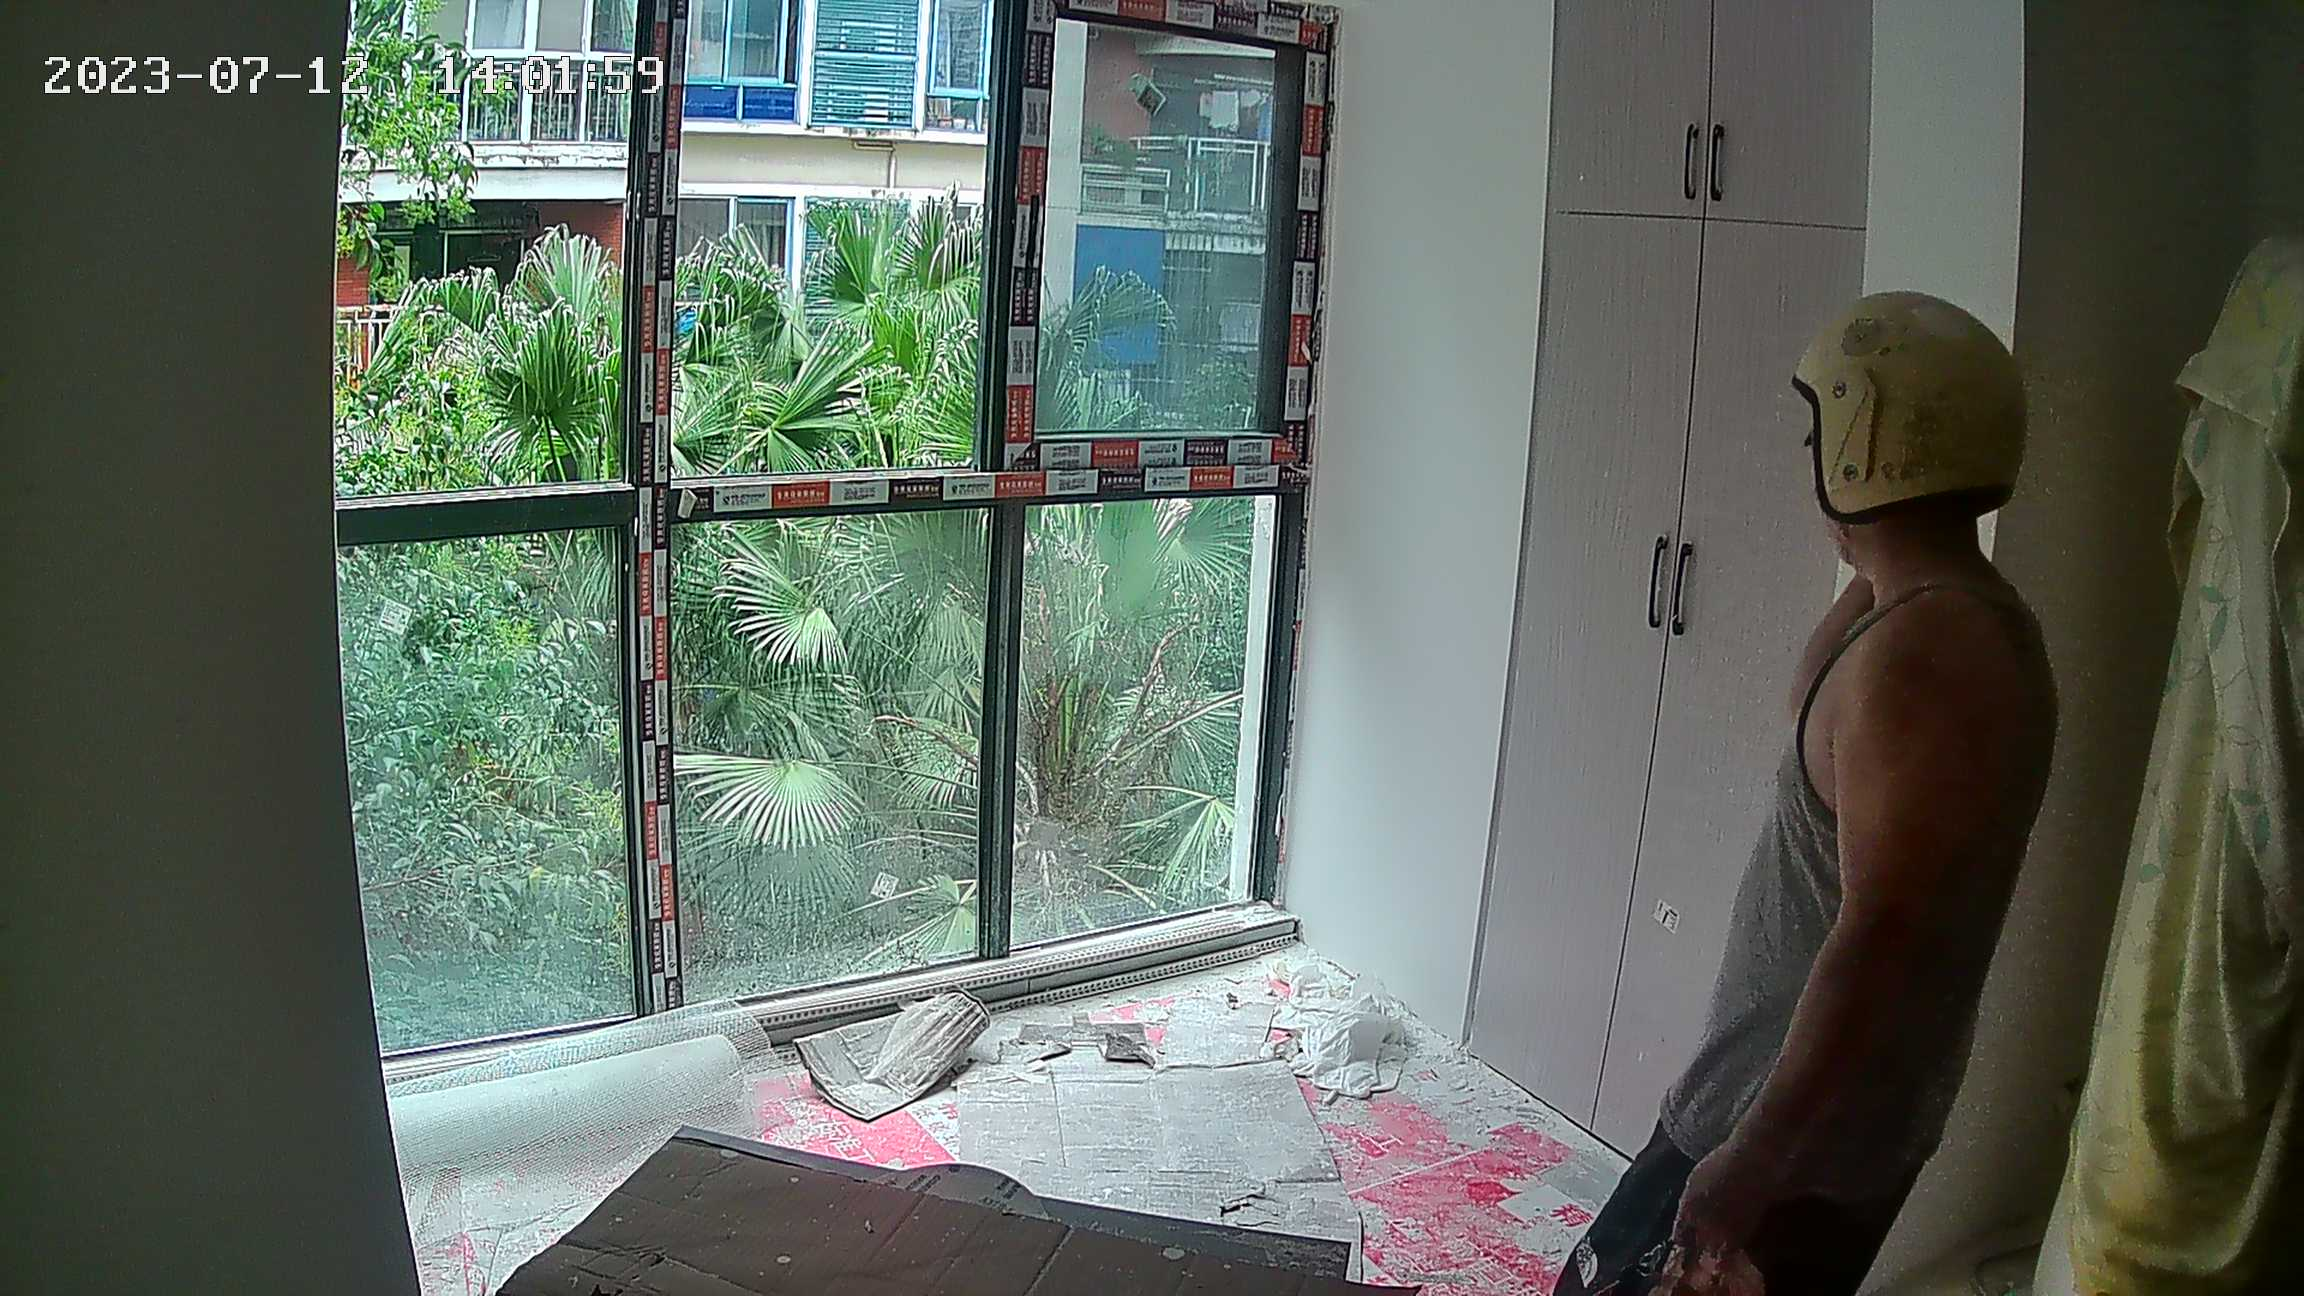people: (1637, 276, 2054, 1296)
window: (366, 1, 1344, 1073)
